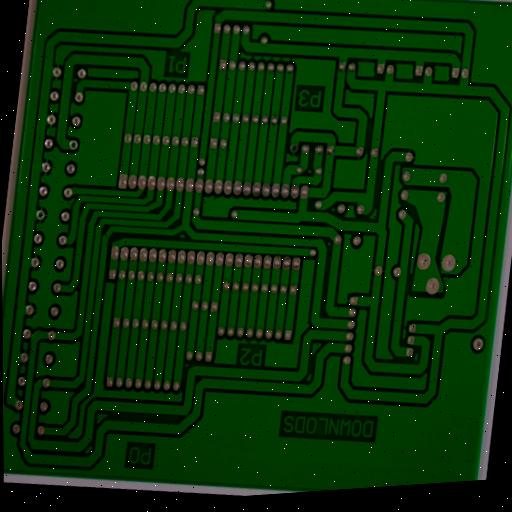missing_hole: (287, 139, 301, 157), (33, 206, 47, 223), (67, 138, 81, 153)
